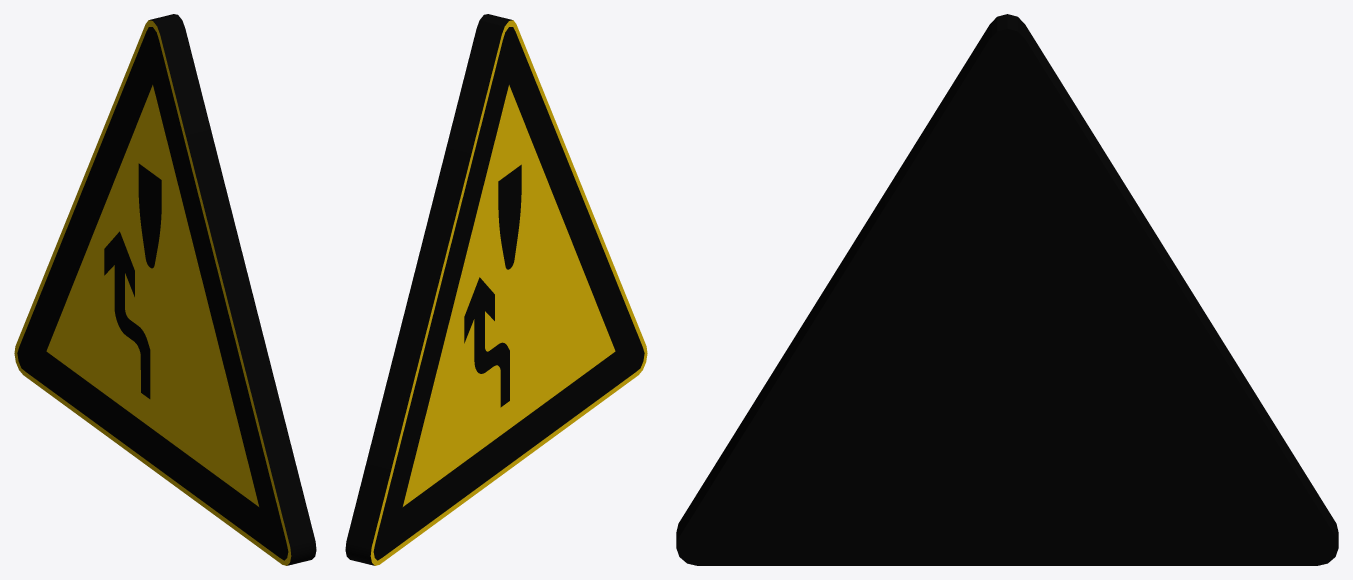
Rendered from Detour_On_The_Left.fbx.
3 renders of one model, left to right at view 1: azimuth 30°, elevation 25°; view 2: azimuth 150°, elevation 25°; view 3: azimuth 270°, elevation 25°, orthographic. The views are drawn at different scales.
Parts seen in each view (by area): view 1: Detour_On_The_Left; view 2: Detour_On_The_Left; view 3: Detour_On_The_Left.
Boxes of the visible parts, x1,y1,x2,y2 form: Detour_On_The_Left: (14, 14, 316, 565); Detour_On_The_Left: (345, 14, 647, 565); Detour_On_The_Left: (676, 14, 1338, 565).
Bounding box in the file's own units: 0.0643 × 1.02 × 1.14.
